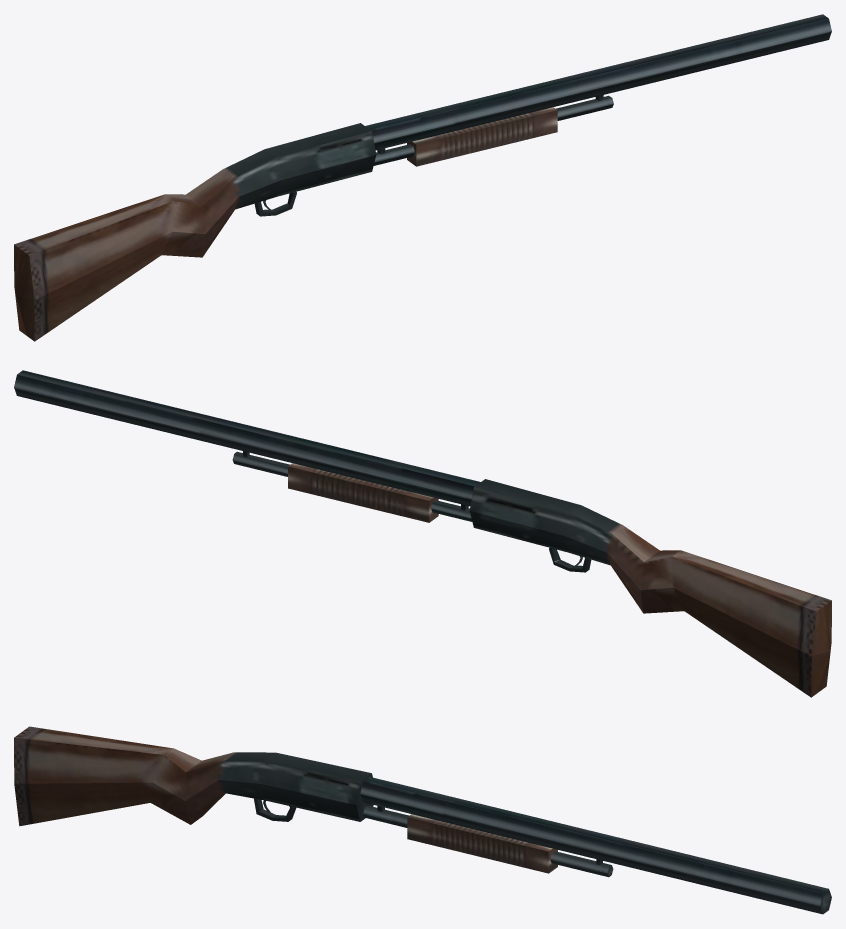
File: ShotgunPSX.fbx
3 renders of one model, top to bottom at view 1: azimuth 30°, elevation 25°; view 2: azimuth 150°, elevation 25°; view 3: azimuth 330°, elevation 25°, orthographic.
Visible parts, largest first — view 1: Shotgun, Grip; view 2: Shotgun, Grip; view 3: Shotgun, Grip.
Boxes of the visible parts, left/top/right/bottom form: Shotgun: left=14, top=14, right=831, bottom=341; Grip: left=407, top=107, right=557, bottom=166; Shotgun: left=14, top=370, right=831, bottom=697; Grip: left=288, top=463, right=438, bottom=522; Shotgun: left=14, top=726, right=831, bottom=914; Grip: left=407, top=814, right=557, bottom=873.
Size of the model in its own units: 470 by 69.92 by 20.25.
1 material, 1 textured.
